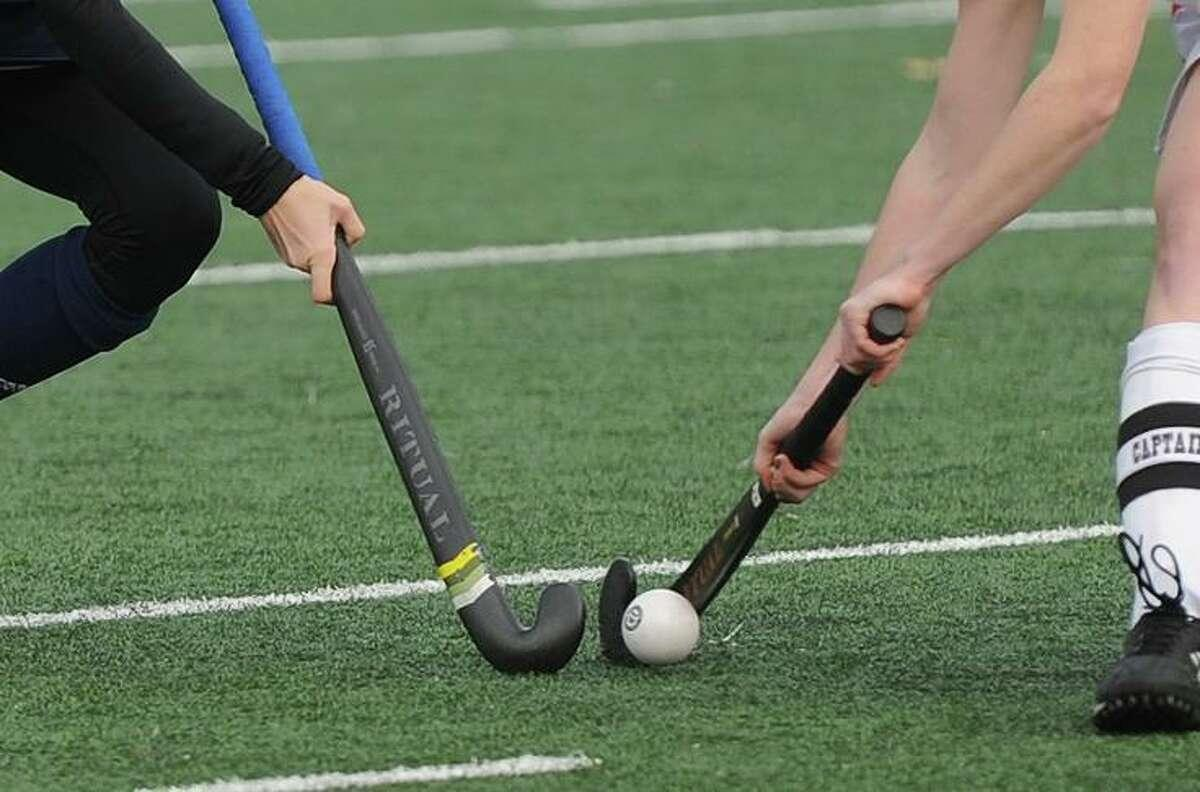ball: (606, 587, 751, 681)
